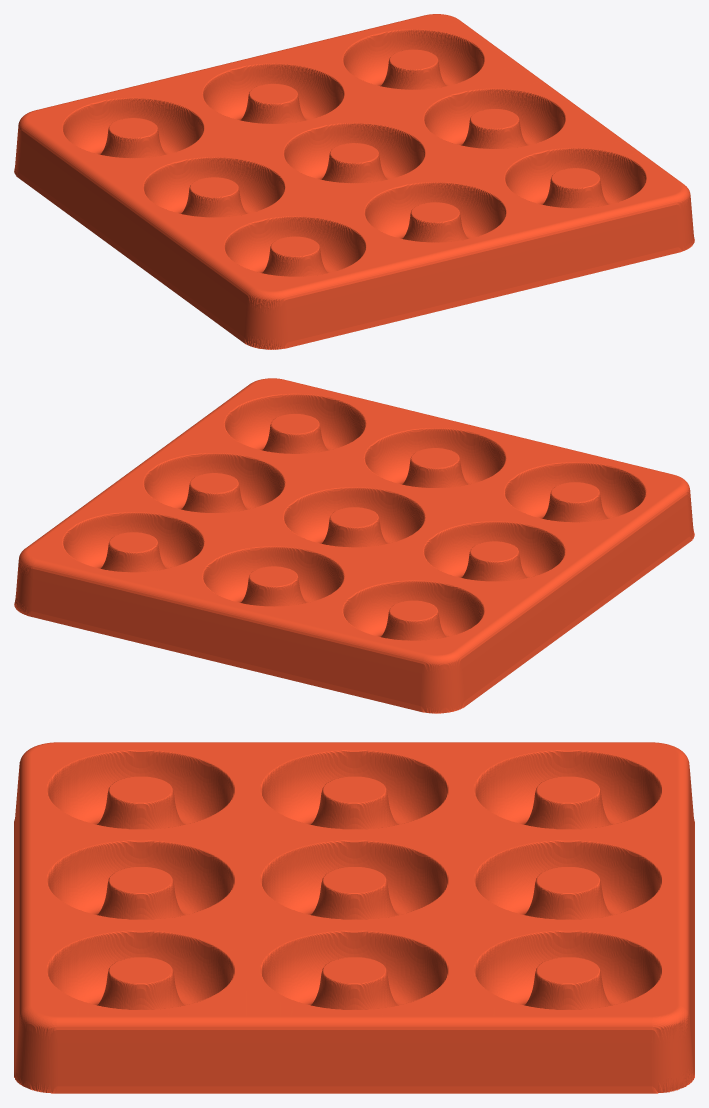
File: mold.glb
3 renders of one model, top to bottom at view 1: azimuth 30°, elevation 25°; view 2: azimuth 150°, elevation 25°; view 3: azimuth 270°, elevation 25°, orthographic. The views are drawn at different scales.
Visible parts, largest first — view 1: geometry_0; view 2: geometry_0; view 3: geometry_0.
Part boxes in pixels (x1,y1,x2,y2): geometry_0: (14,14,694,349); geometry_0: (14,378,694,713); geometry_0: (14,742,694,1093).
Bounding box in the file's own units: 0.1409 × 0.0159 × 0.1409.
